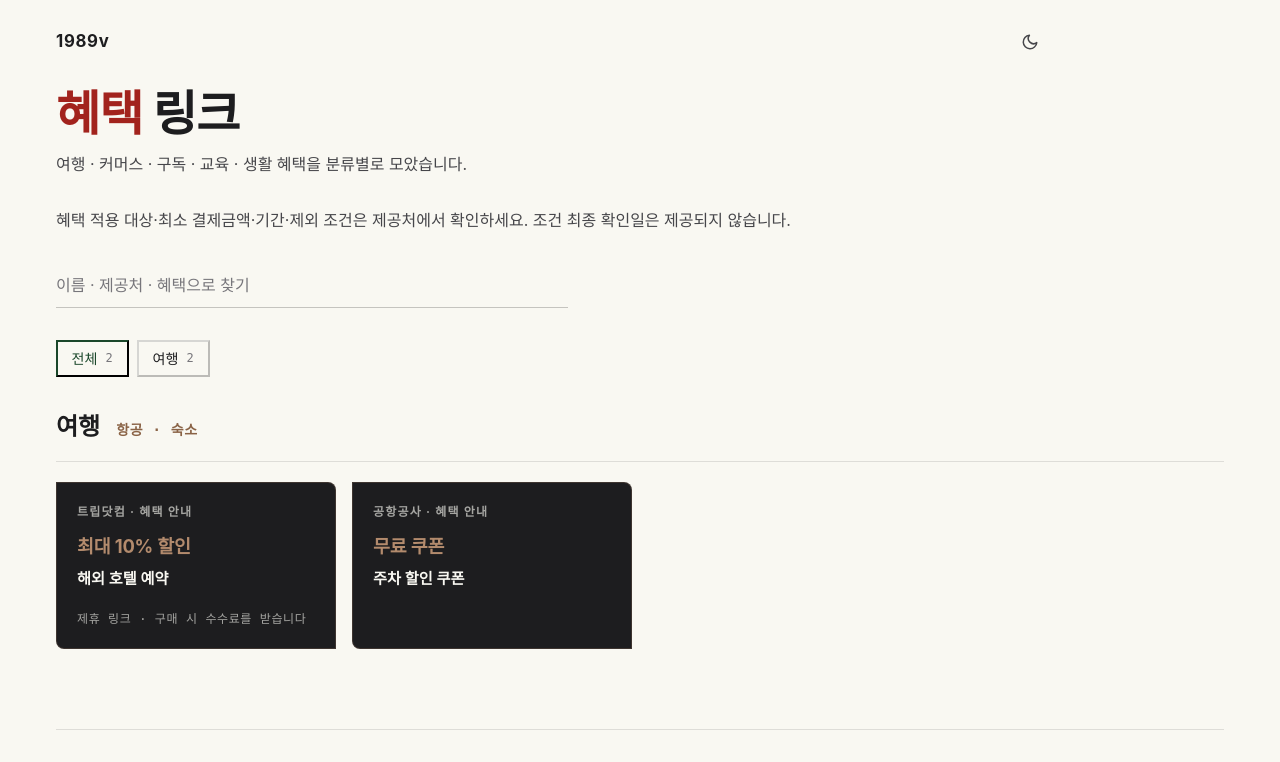
Test: DealPage › 검색 중에는 전체 목록 대신 결과만 남는다 — 둘이 함께 보이면 무엇이 결과인지 흐려진다
expect the link "트립닷컴 · 혜택 안내 최대 10% 할인 해외 호텔 예약 제휴 링크 · 구매 시 수수료를 받습니다" is shown: met, box 56,482 -> 336,648
Type "없는혜택" into the search field named "혜택 검색" at (312, 286), box 56,264 -> 568,308
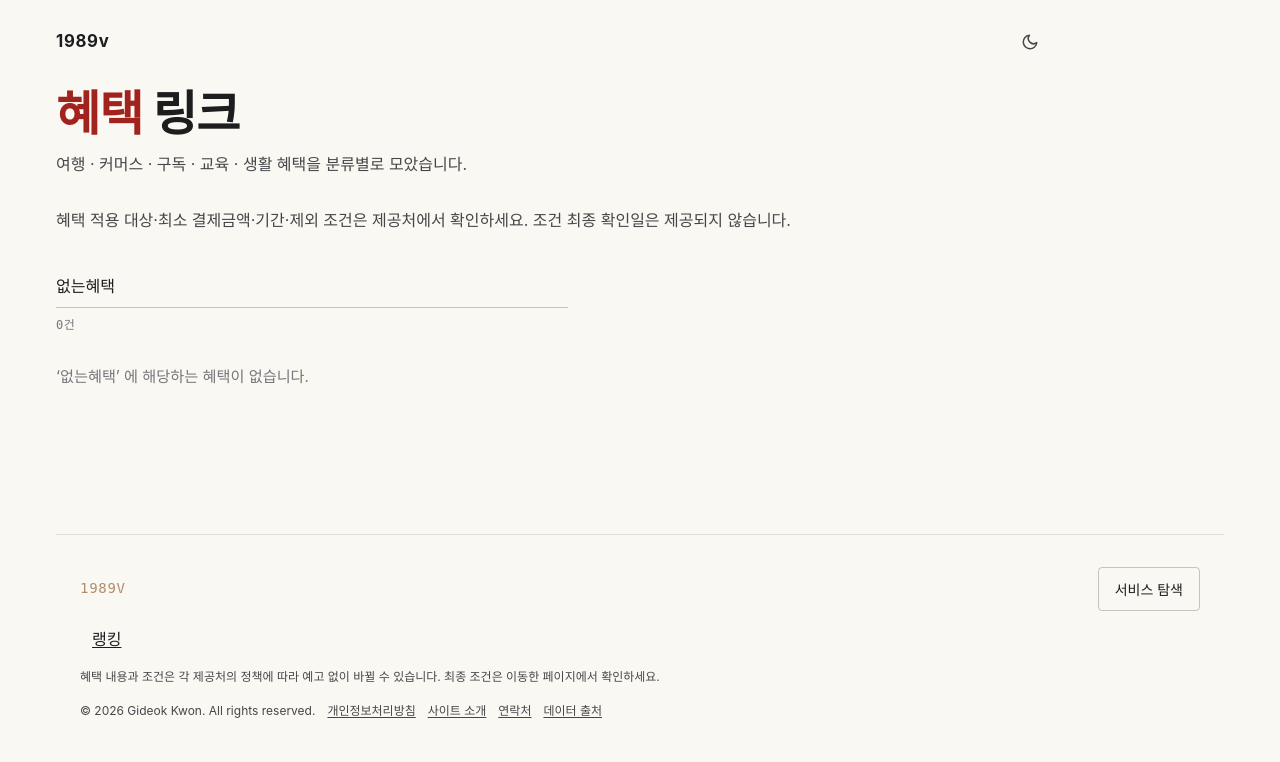
expect the text "‘없는혜택’ 에 해당하는 혜택이 없습니다." is shown: met, box 56,367 -> 309,386
expect the link "해외 호텔 예약" is gone: met
